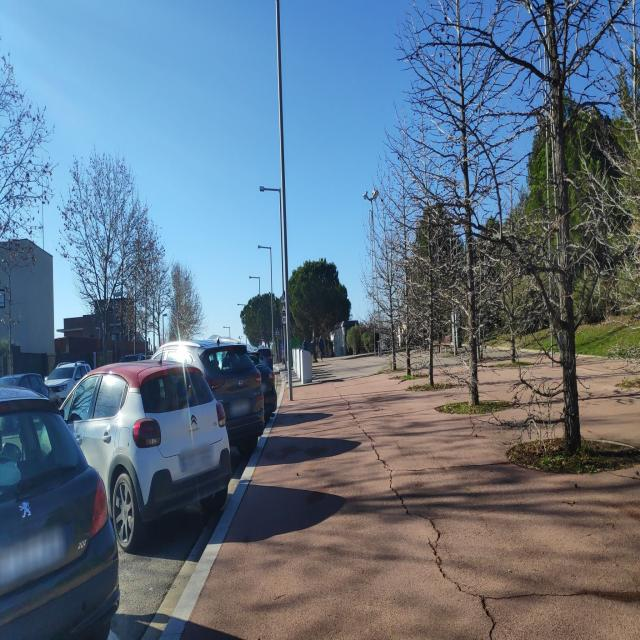car: (61, 359, 232, 553), (0, 395, 121, 638), (158, 335, 276, 456), (44, 360, 92, 400), (0, 371, 51, 401)
